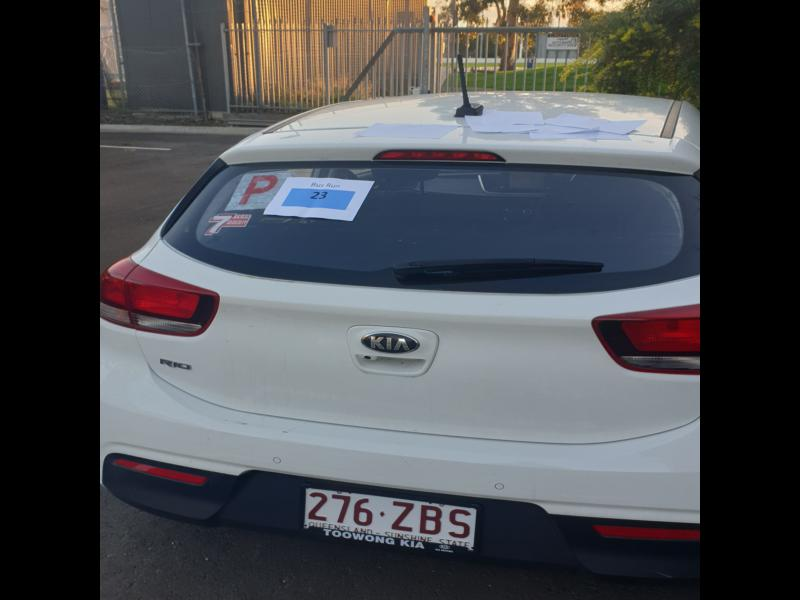BusRun: (283, 189, 357, 211)
PlateNo: (299, 487, 474, 547)
